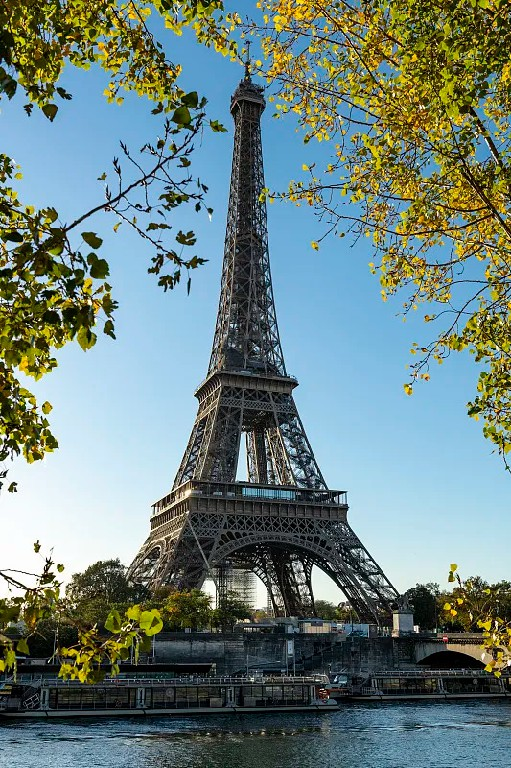Eiffel: (125, 40, 399, 623)
